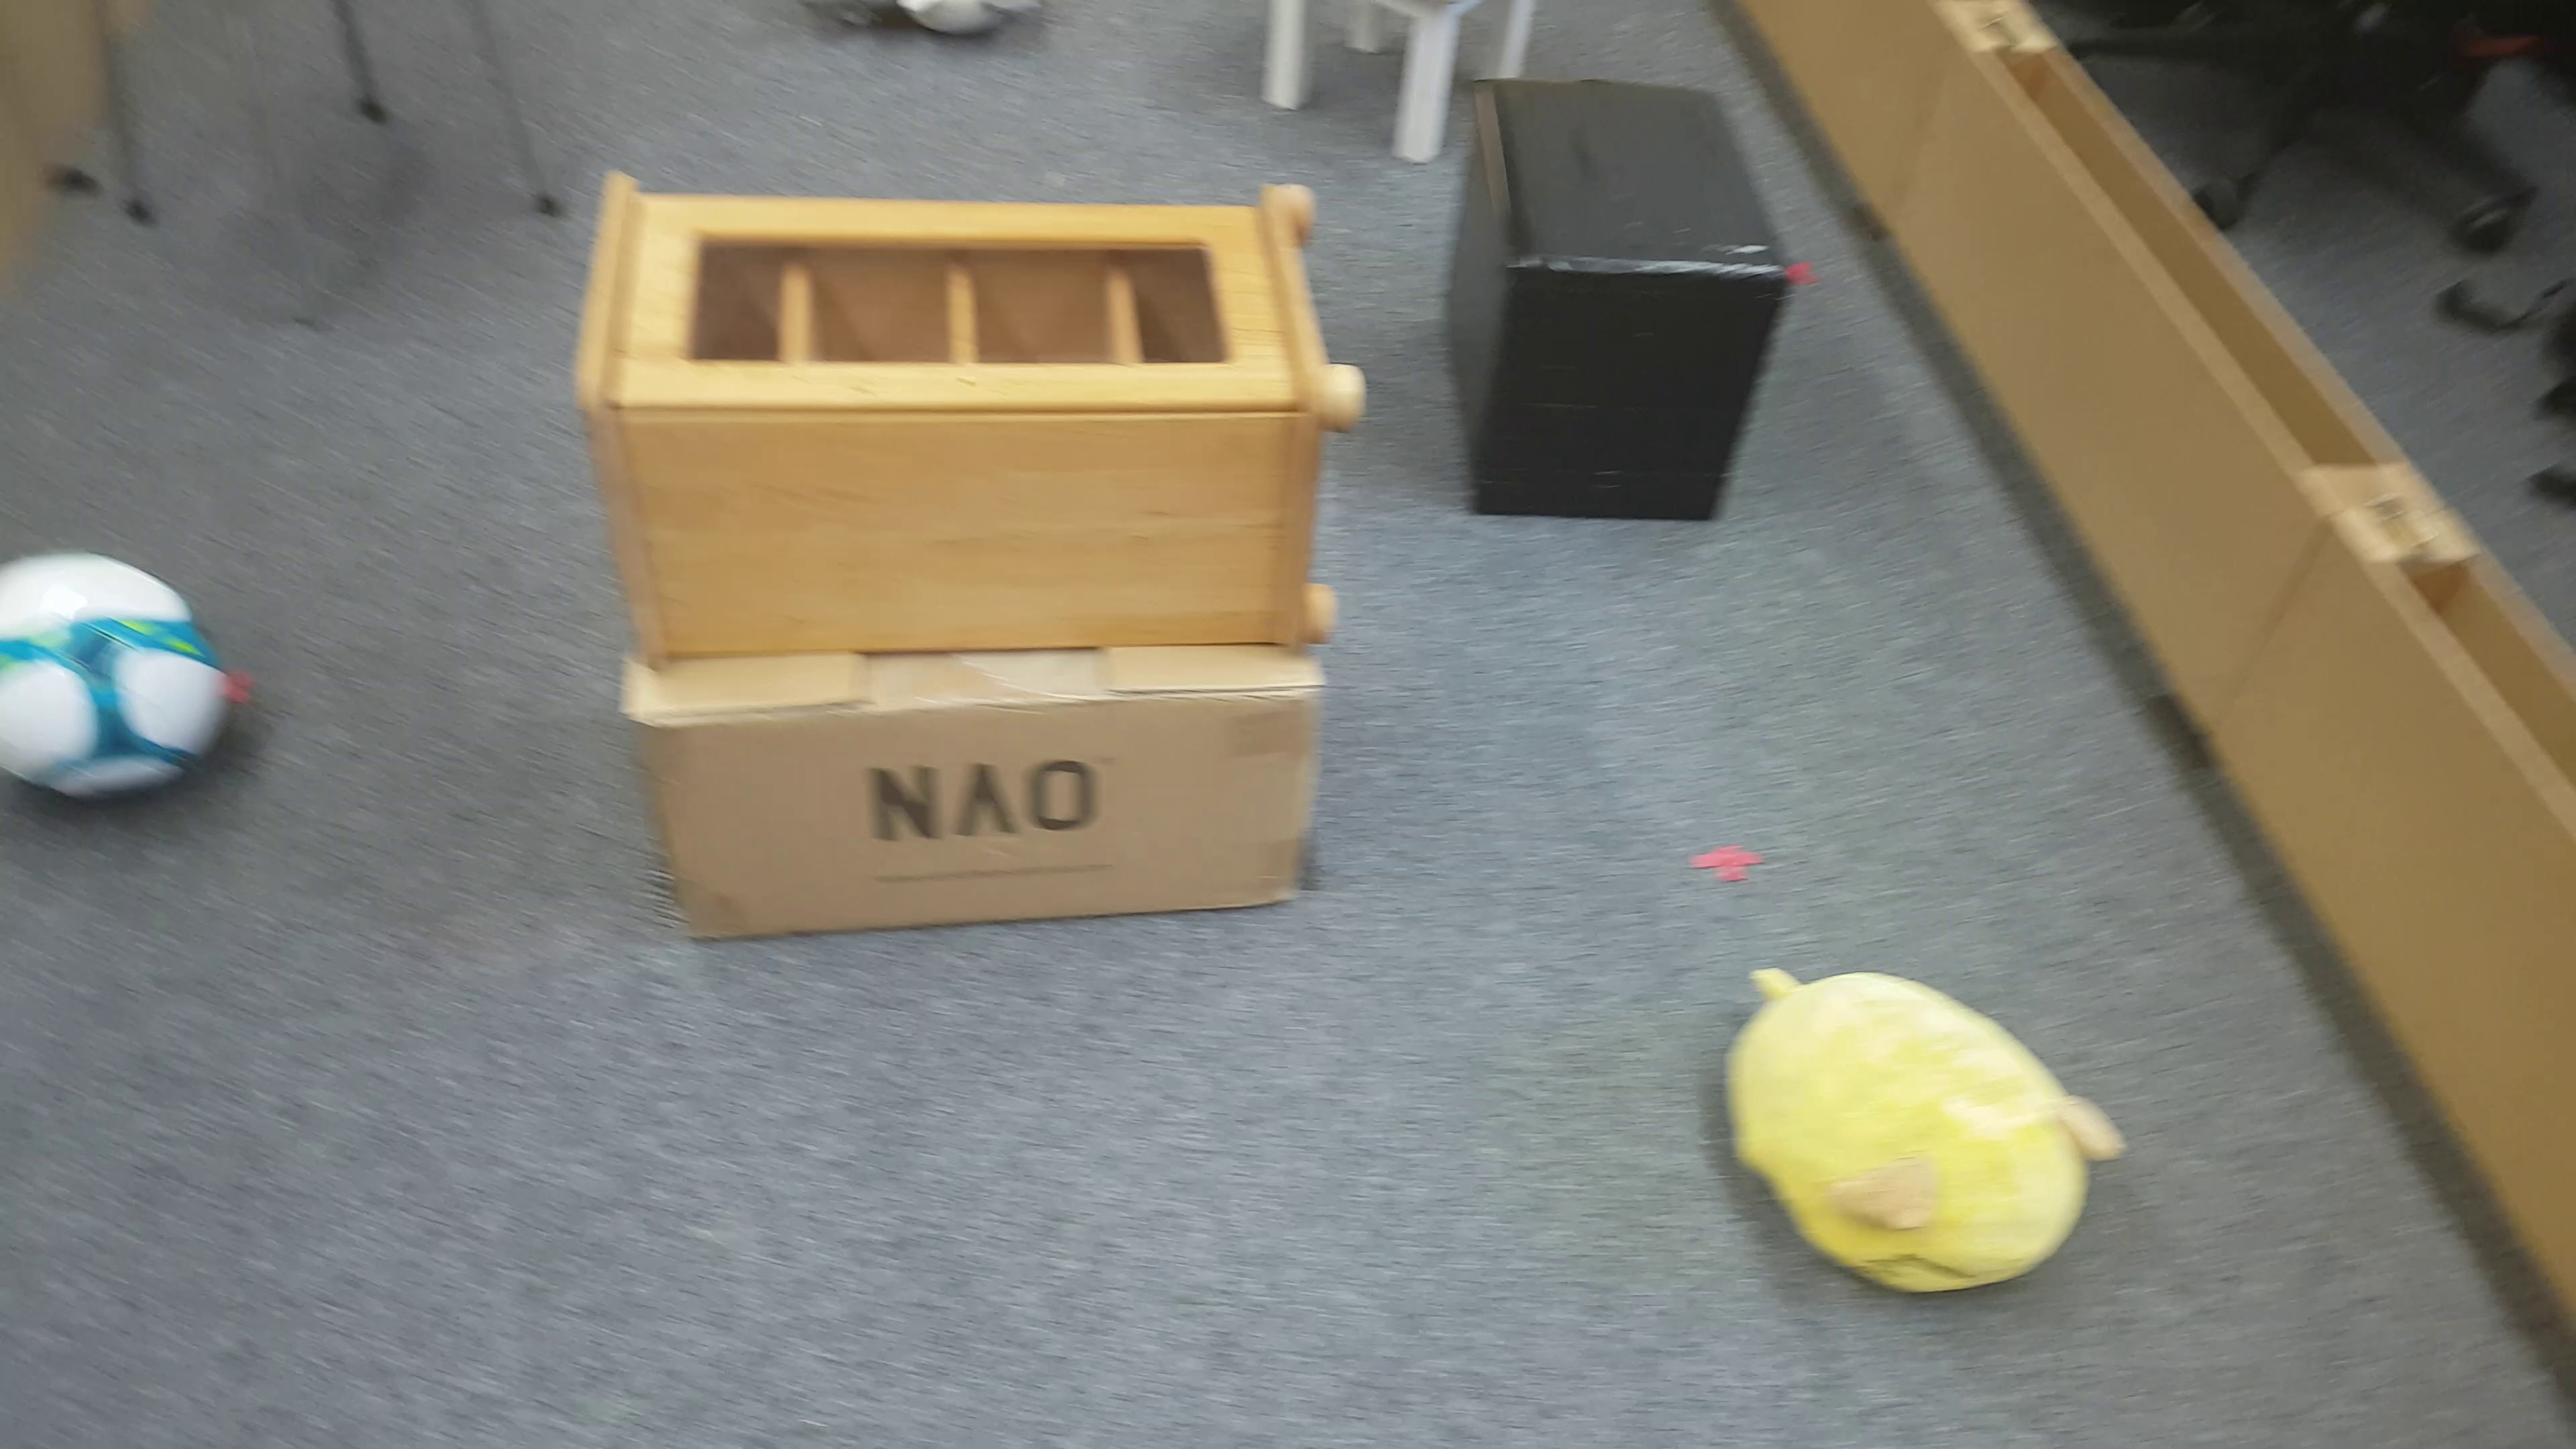grasp: (1725, 962, 2128, 1299), (814, 0, 1046, 51)
kick: (4, 557, 219, 816)
push: (1445, 69, 1794, 536)
